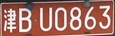B: (19, 8, 32, 32)
